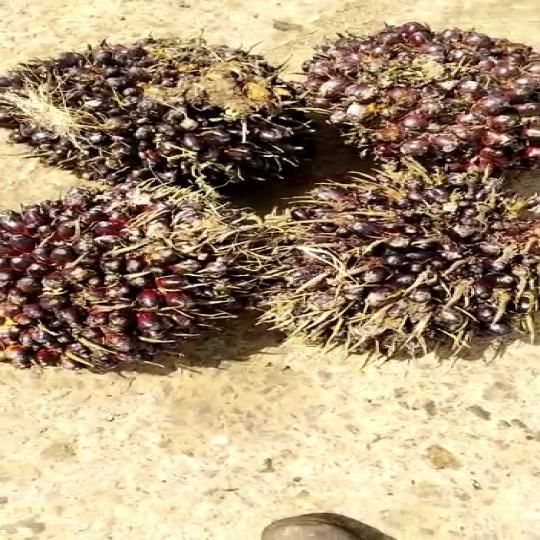kurang masak: (240, 168, 540, 351), (0, 192, 276, 388), (0, 38, 293, 186), (265, 19, 540, 160)
